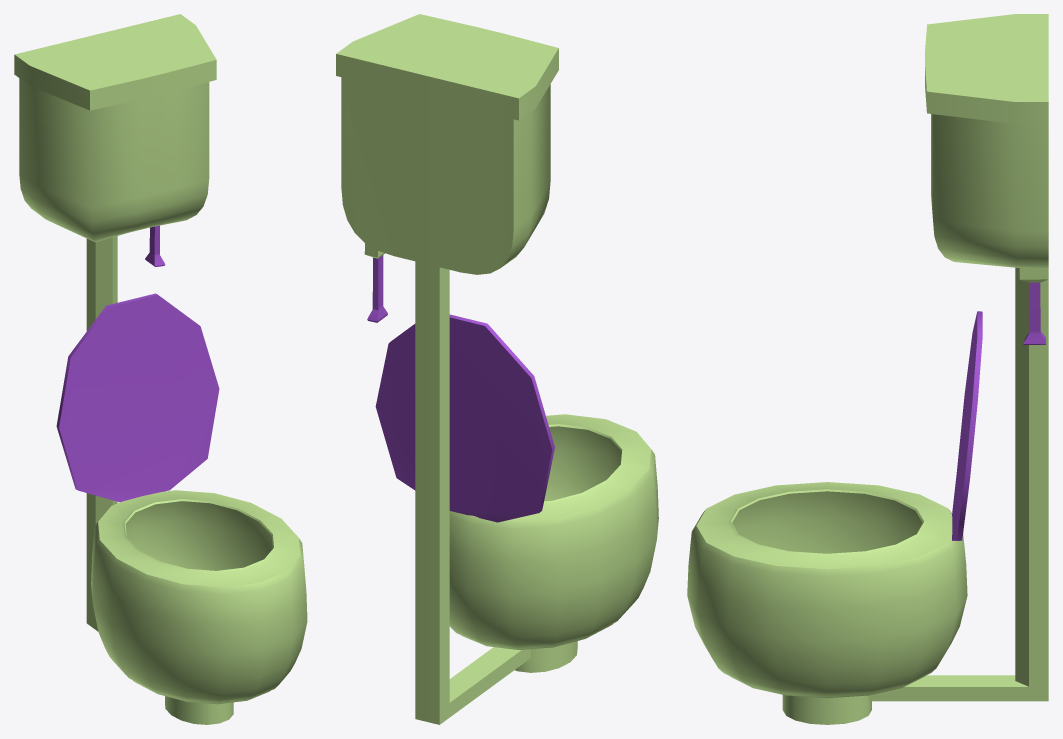
File: Toilet.FBX
3 renders of one model, left to right at view 1: azimuth 30°, elevation 25°; view 2: azimuth 150°, elevation 25°; view 3: azimuth 270°, elevation 25°, orthographic. The views are drawn at different scales.
Visible parts, largest first — view 1: Toilet; view 2: Toilet; view 3: Toilet.
Boxes of the visible parts, x1=… form: Toilet: x1=14, y1=14, x2=307, y2=724; Toilet: x1=336, y1=14, x2=658, y2=724; Toilet: x1=687, y1=14, x2=1048, y2=724.
Size of the model in its own units: 0.9157 by 2.98 by 1.5.
